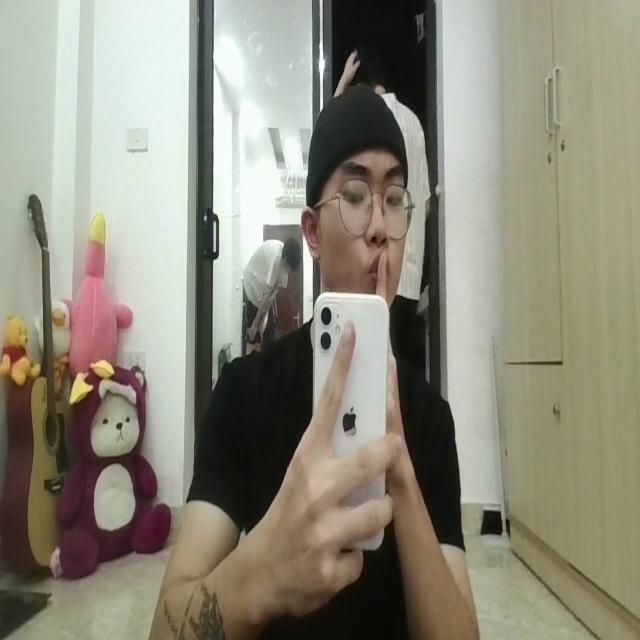extra_person: (236, 215, 310, 342)
phone: (310, 277, 393, 558)
student: (146, 86, 478, 640)
